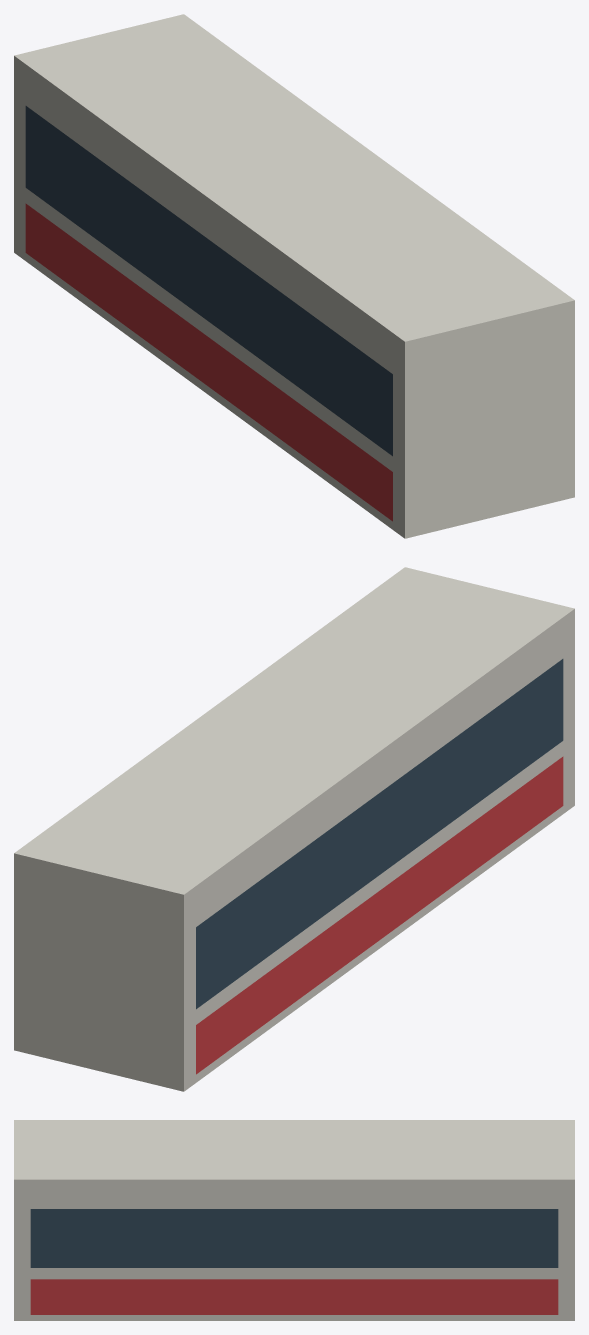
Rendered from 315_far.fbx.
3 renders of one model, top to bottom at view 1: azimuth 30°, elevation 25°; view 2: azimuth 150°, elevation 25°; view 3: azimuth 270°, elevation 25°, orthographic. The views are drawn at different scales.
Visible parts, largest first — view 1: 315_far; view 2: 315_far; view 3: 315_far.
Boxes of the visible parts, left/top/right/bottom form: 315_far: left=14, top=14, right=574, bottom=538; 315_far: left=14, top=567, right=574, bottom=1091; 315_far: left=14, top=1120, right=574, bottom=1320.
Bounding box in the file's own units: 2.52 × 2.78 × 10.
